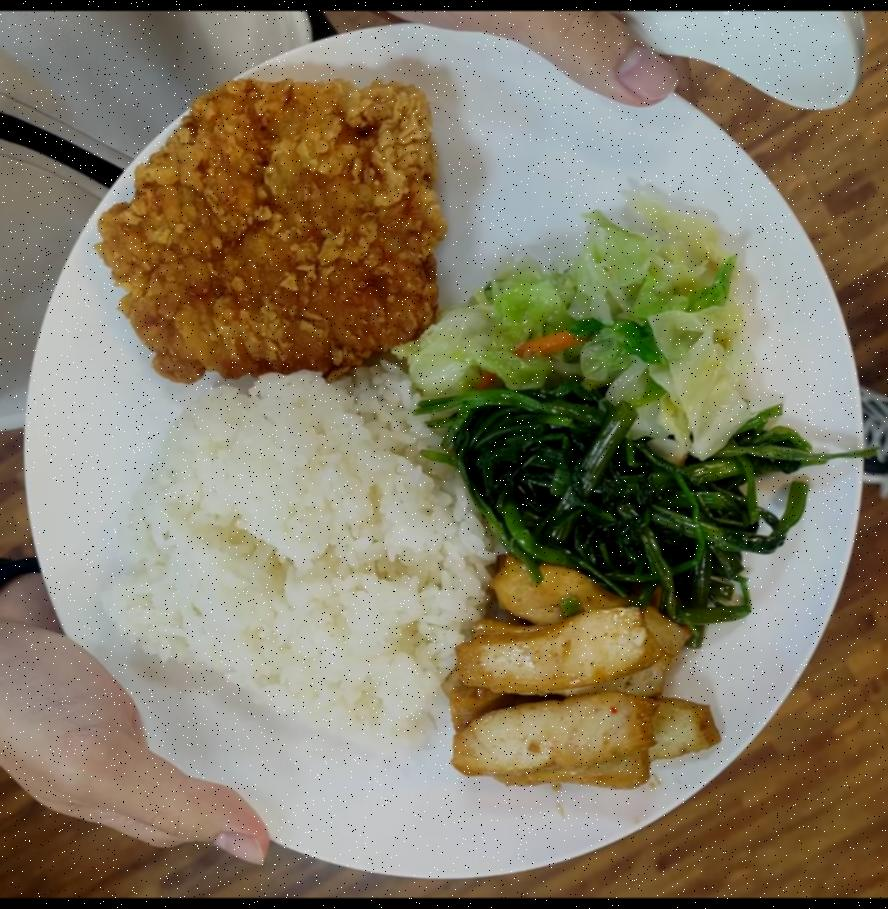kara chicken leg steak: (88, 71, 447, 386)
plate: (6, 12, 864, 876)
side dish: (440, 384, 802, 620), (418, 206, 754, 438), (440, 550, 725, 802)
white rice: (94, 362, 489, 766)
